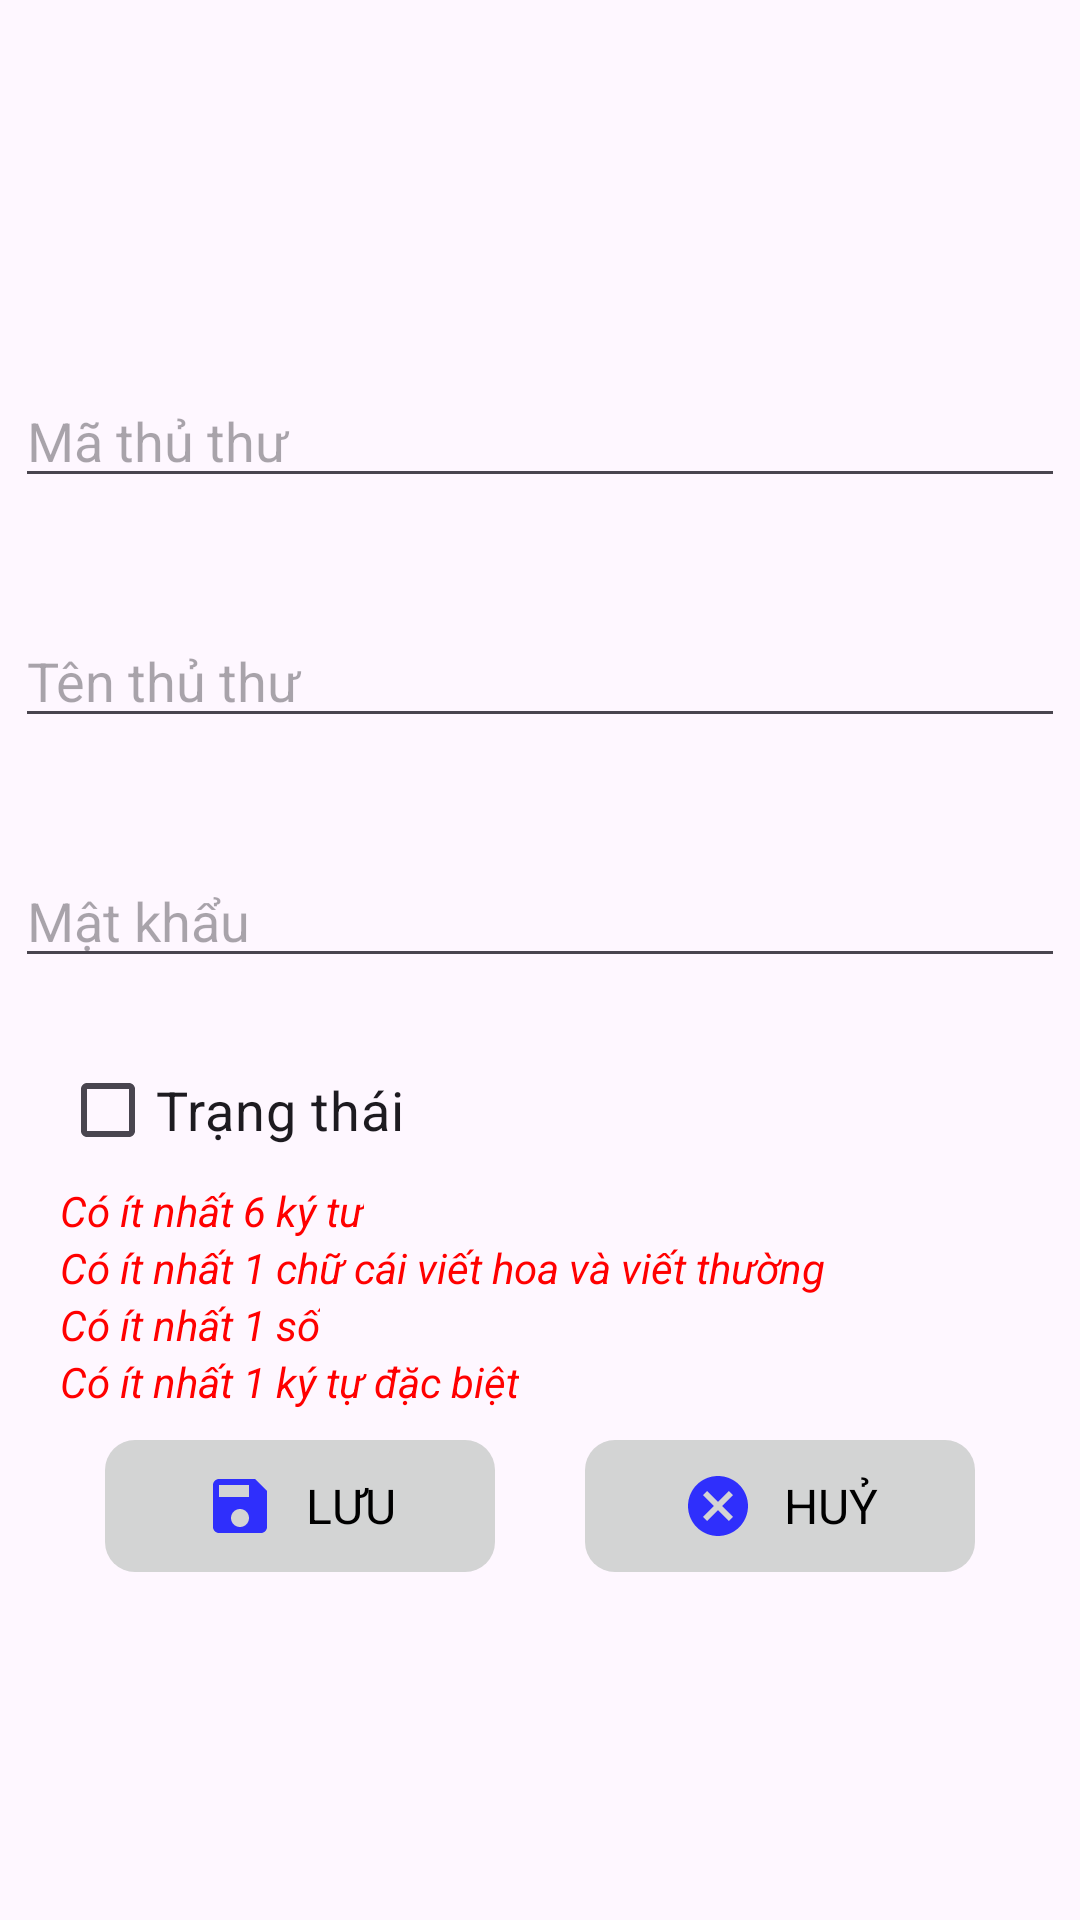

Screen size 1080 × 1920. Icon name, then its box in pixels as (x1, y1, x2, y2):
cancel: (688, 1476, 748, 1536)
save: (213, 1479, 267, 1533)
